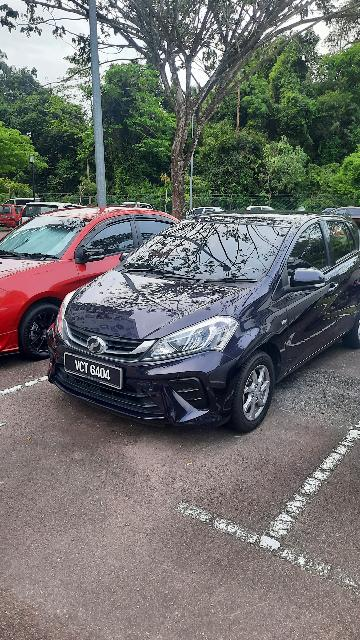License_Plate: (60, 349, 129, 397)
car: (44, 208, 360, 432), (2, 195, 217, 366)
